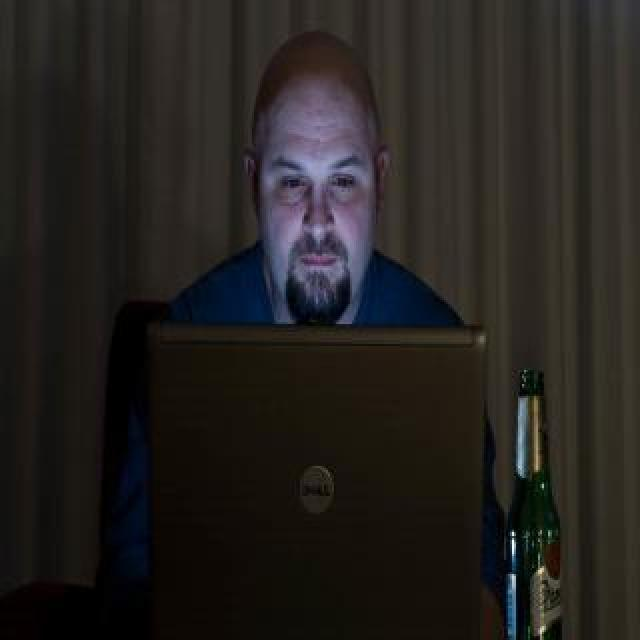laptop_computer: (88, 296, 496, 640)
